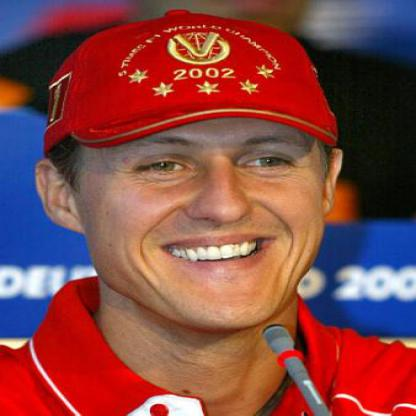face: (73, 16, 330, 338)
